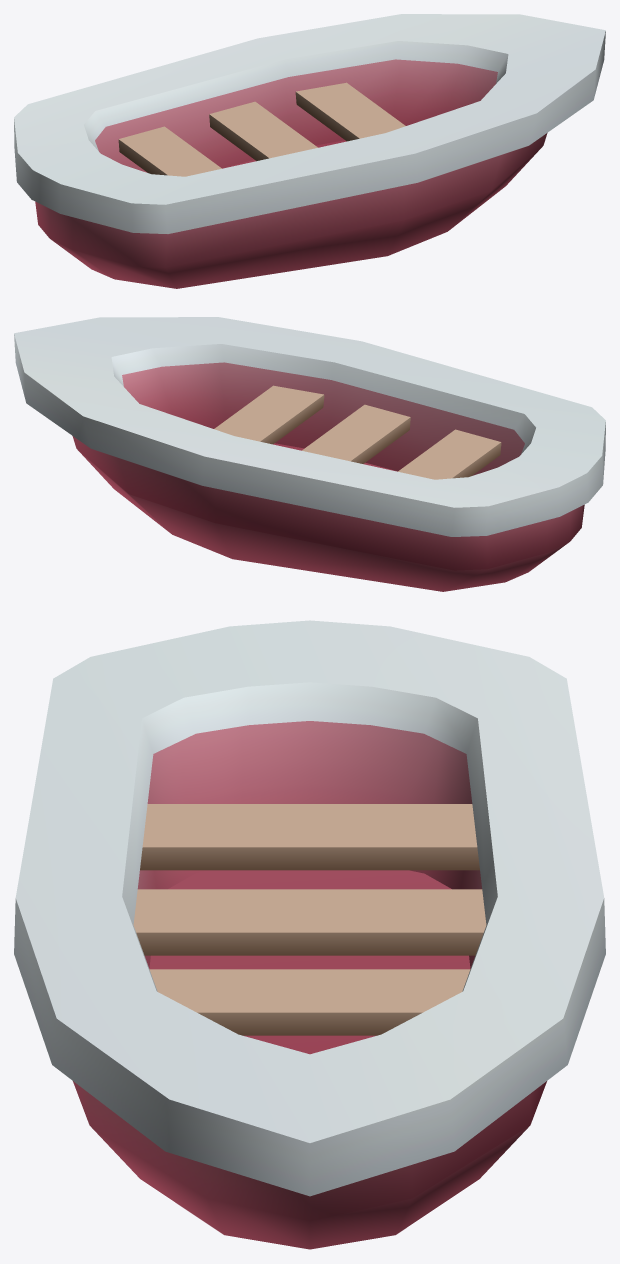
The model's file is Asset_BoatB.glb.
3 views of the same model, one above another, from view 1: azimuth 30°, elevation 25°; view 2: azimuth 150°, elevation 25°; view 3: azimuth 270°, elevation 25° (orthographic). The views are drawn at different scales.
Visible parts, largest first — view 1: Mesh.028; view 2: Mesh.028; view 3: Mesh.028.
Part boxes in pixels (bbox=[...]): Mesh.028: bbox=[14, 14, 605, 288]; Mesh.028: bbox=[14, 317, 605, 591]; Mesh.028: bbox=[14, 620, 605, 1249].
Size of what is drawn, in the model's own units: 3.73 by 0.8947 by 1.78.
1 material, 1 textured.
